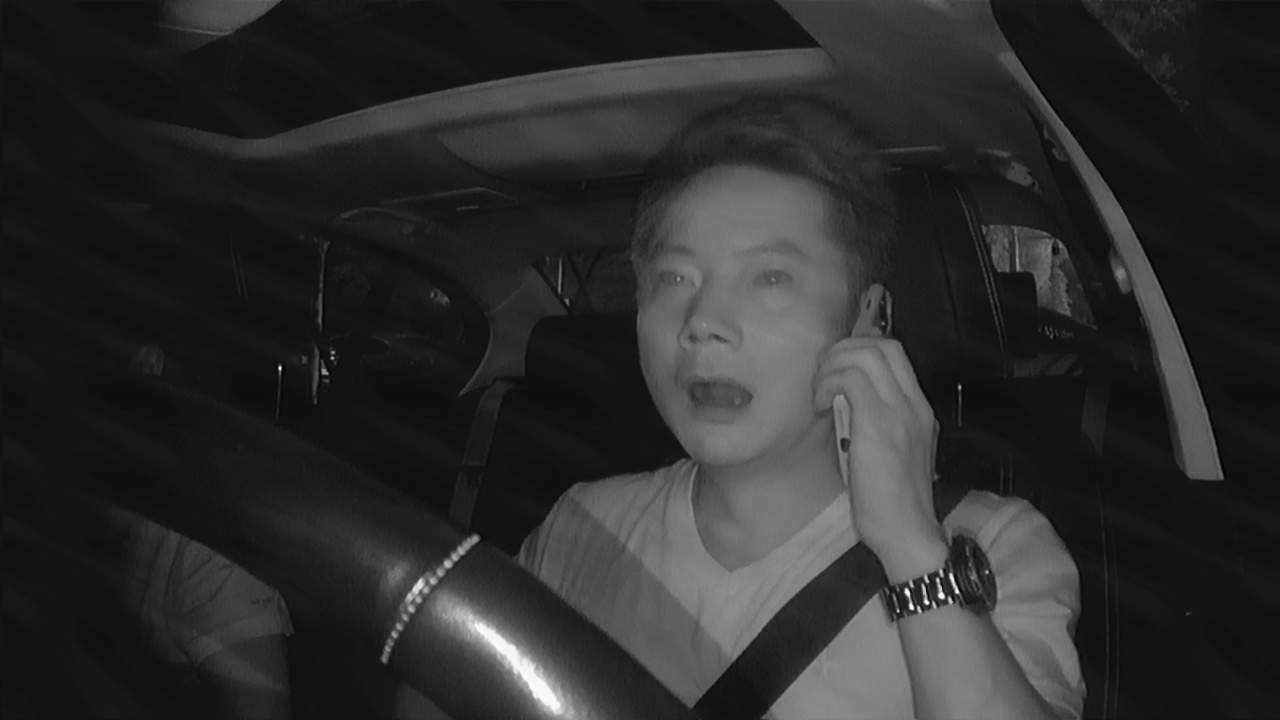hand: (812, 324, 952, 541)
